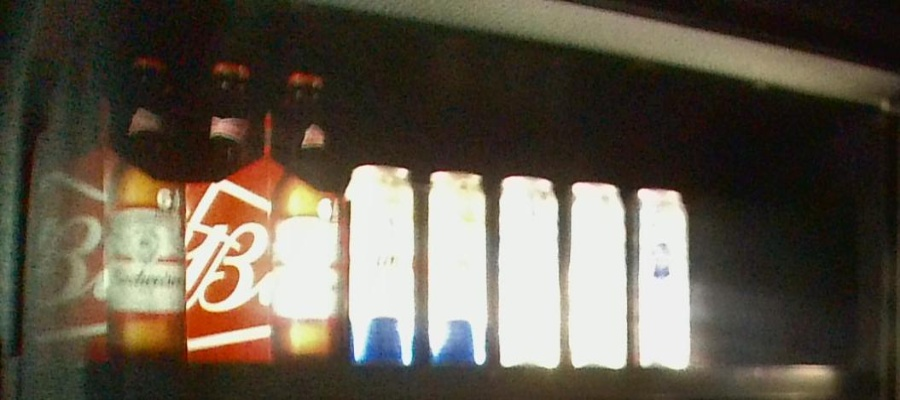bottle: (22, 41, 187, 365), (185, 58, 345, 362), (494, 172, 694, 374), (350, 159, 488, 369)
